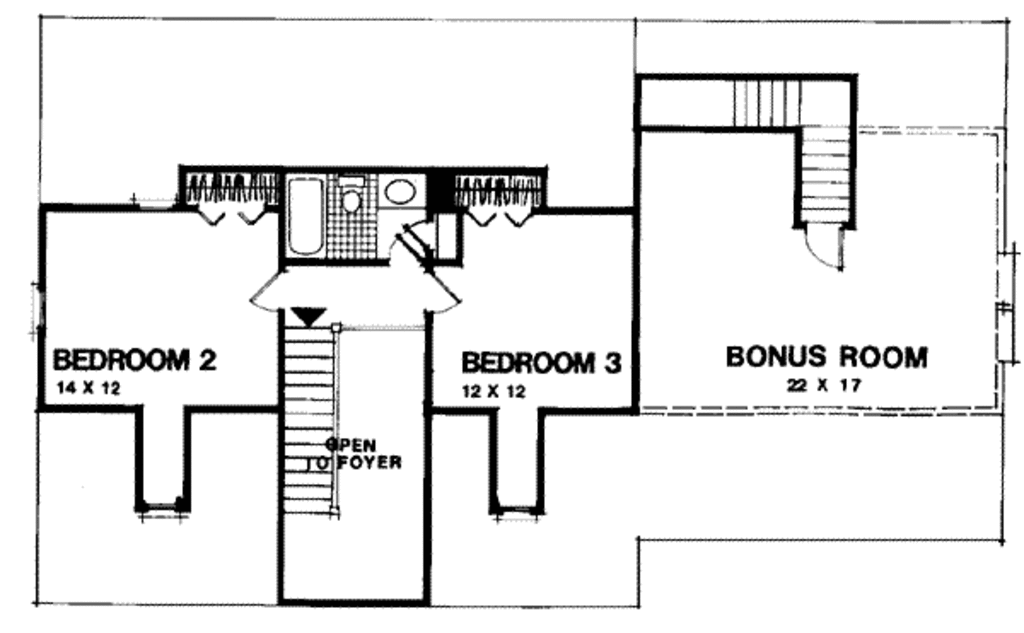door: (416, 269, 463, 313), (799, 223, 842, 269), (247, 270, 284, 316), (381, 234, 415, 264)
large_sink: (332, 172, 367, 214)
small_sink: (376, 176, 427, 215)
stairs: (730, 72, 861, 229), (275, 321, 341, 514)
tub: (281, 170, 329, 259)
